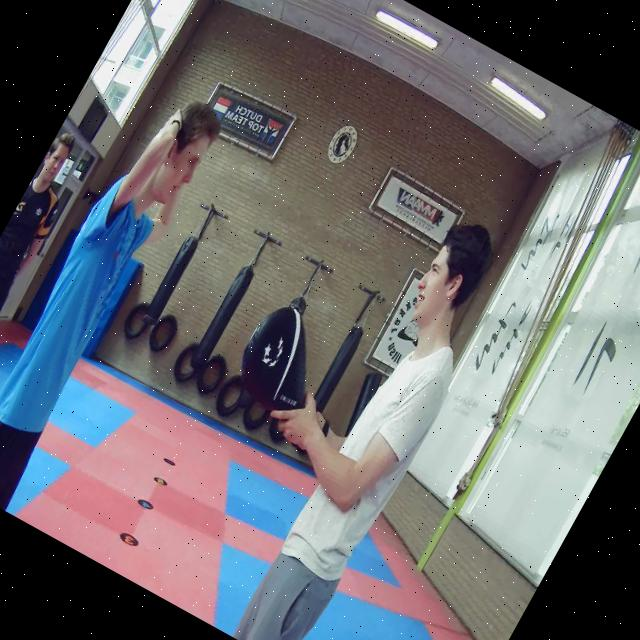paddle: (240, 308, 307, 412)
